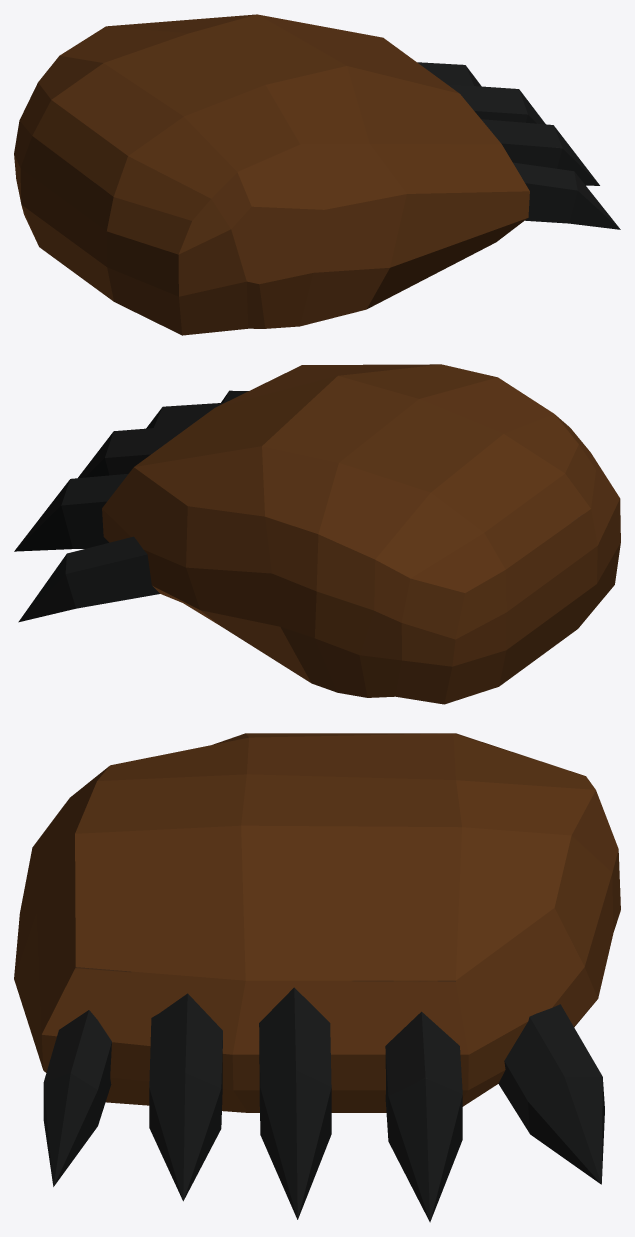
Rendered from Paw_v08.fbx.
3 renders of one model, top to bottom at view 1: azimuth 30°, elevation 25°; view 2: azimuth 150°, elevation 25°; view 3: azimuth 270°, elevation 25°, orthographic. The views are drawn at different scales.
Parts seen in each view (by area): view 1: Circle; view 2: Circle; view 3: Circle.
Boxes of the visible parts, bbox=[...] form: Circle: bbox=[14, 14, 620, 335]; Circle: bbox=[14, 364, 620, 704]; Circle: bbox=[14, 733, 620, 1222].
Size of the model in its own units: 170 by 60.68 by 134.
Materials: 1 (1 with a texture image).
